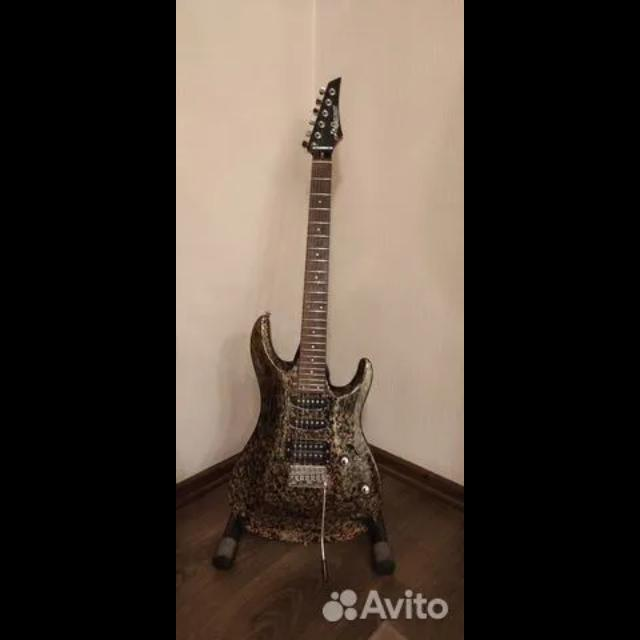Electric-Guitar: (230, 77, 382, 545)
